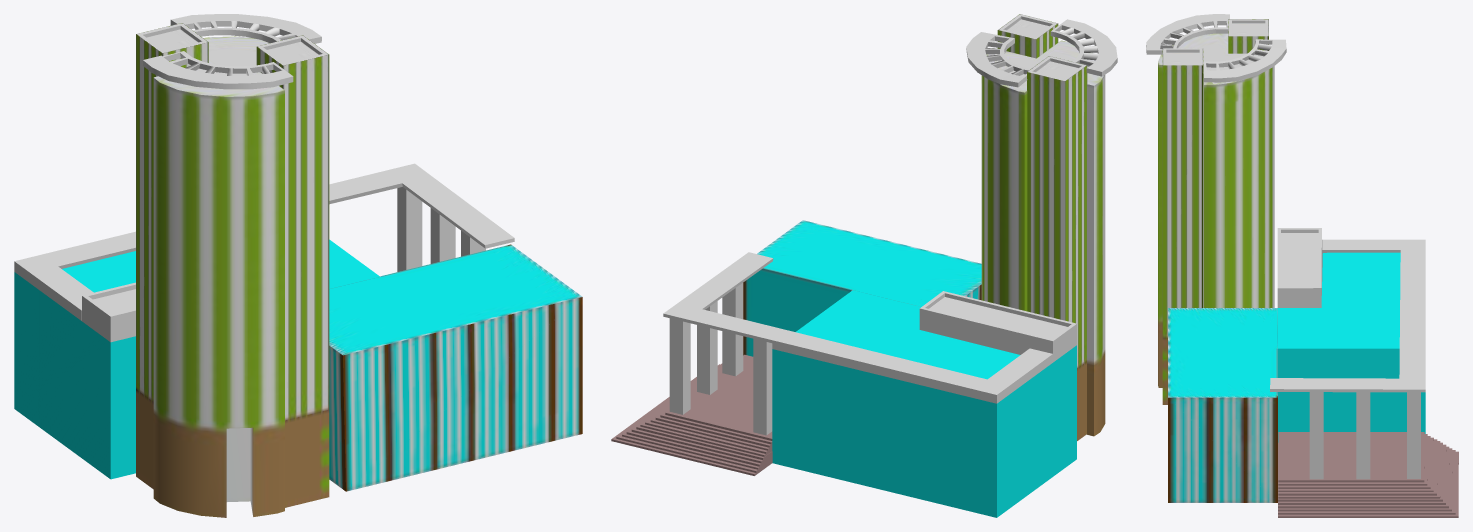
File: xingzhenglou.fbx
The picture shows the model from 3 angles, left to right: view 1: azimuth 30°, elevation 25°; view 2: azimuth 150°, elevation 25°; view 3: azimuth 270°, elevation 25°; orthographic projection. The views are drawn at different scales.
Parts seen in each view (by area): view 1: pasted__polySurface2, pCube2, pasted__pasted__pCube3, pasted__pCube2, pasted__pasted__pCube2, pasted__pCube3, polySurface3, polySurface4, pasted__pCube8, pasted__pCube7; view 2: pasted__pCube2, pasted__polySurface2, pasted__pasted__pCube2, pasted__pCube3, pCube2, polySurface7, polySurface4, polySurface3, pasted__pCube8, pCube6, pasted__pasted__pCube3, pasted__pCube6 (+1 smaller); view 3: pCube2, pasted__polySurface2, pasted__pCube2, polySurface7, pasted__pasted__pCube3, pasted__pasted__pCube2, polySurface4, polySurface3, pasted__pCube6, pasted__pCube7, pasted__pCube3, pasted__pCube8.
Part boxes in pixels (x1=…): pasted__polySurface2: x1=153, y1=36, x2=284, y2=517; pCube2: x1=329, y1=244, x2=582, y2=491; pasted__pasted__pCube3: x1=256, y1=35, x2=329, y2=507; pasted__pCube2: x1=14, y1=239, x2=379, y2=479; pasted__pasted__pCube2: x1=14, y1=163, x2=514, y2=342; pasted__pCube3: x1=136, y1=23, x2=208, y2=489; polySurface3: x1=143, y1=51, x2=293, y2=89; polySurface4: x1=170, y1=14, x2=321, y2=43; pasted__pCube8: x1=397, y1=187, x2=422, y2=271; pasted__pCube7: x1=430, y1=208, x2=455, y2=263; pasted__pCube2: x1=772, y1=290, x2=1076, y2=517; pasted__polySurface2: x1=981, y1=40, x2=1105, y2=436; pasted__pasted__pCube2: x1=663, y1=252, x2=1076, y2=403; pasted__pCube3: x1=1027, y1=56, x2=1087, y2=440; pCube2: x1=743, y1=220, x2=981, y2=356; polySurface7: x1=611, y1=354, x2=772, y2=475; polySurface4: x1=966, y1=32, x2=1029, y2=87; polySurface3: x1=1050, y1=19, x2=1117, y2=76; pasted__pCube8: x1=669, y1=318, x2=690, y2=414; pCube6: x1=753, y1=338, x2=772, y2=435; pasted__pasted__pCube3: x1=997, y1=14, x2=1058, y2=58; pasted__pCube6: x1=722, y1=283, x2=743, y2=376; pCube2: x1=1168, y1=308, x2=1277, y2=502; pasted__polySurface2: x1=1158, y1=33, x2=1274, y2=387; pasted__pCube2: x1=1277, y1=252, x2=1425, y2=442; polySurface7: x1=1278, y1=432, x2=1458, y2=517; pasted__pasted__pCube3: x1=1162, y1=48, x2=1203, y2=404; pasted__pasted__pCube2: x1=1270, y1=228, x2=1425, y2=392; polySurface4: x1=1203, y1=39, x2=1286, y2=82; polySurface3: x1=1146, y1=14, x2=1229, y2=54; pasted__pCube6: x1=1309, y1=392, x2=1323, y2=479; pasted__pCube7: x1=1356, y1=392, x2=1370, y2=479; pasted__pCube3: x1=1228, y1=19, x2=1268, y2=53; pasted__pCube8: x1=1407, y1=392, x2=1420, y2=478.
Bounding box in the file's own units: 27.43 × 26.41 × 21.93.
